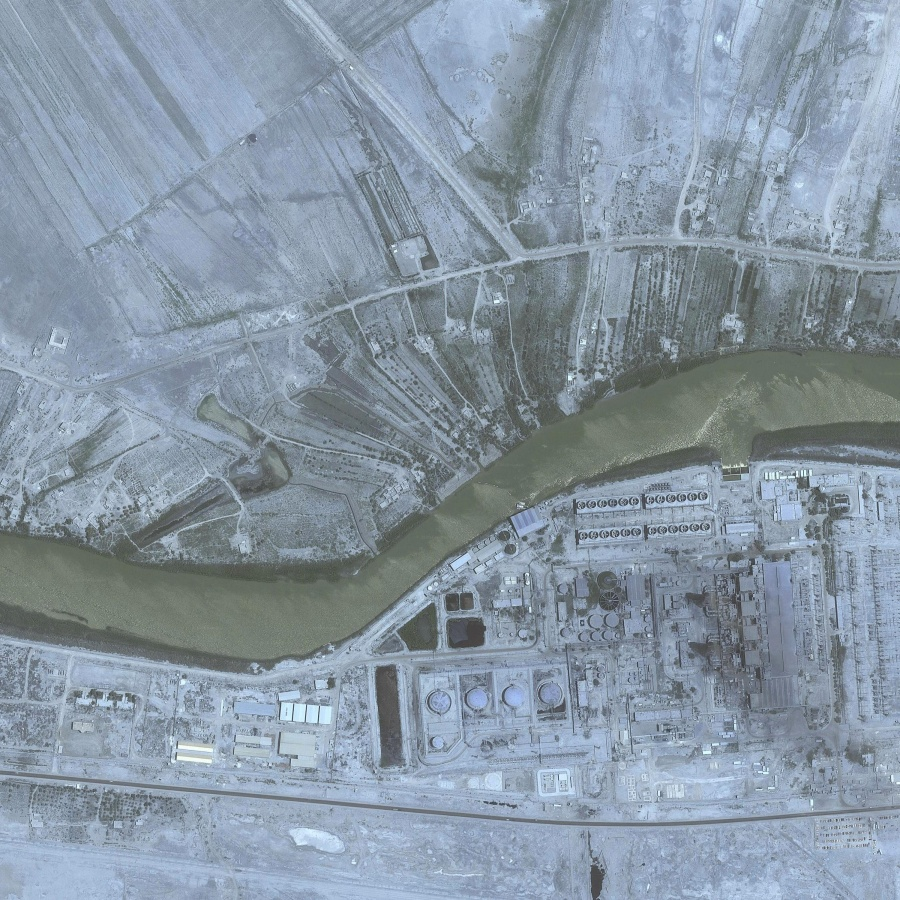PowerPlant: (352, 485, 852, 784)
